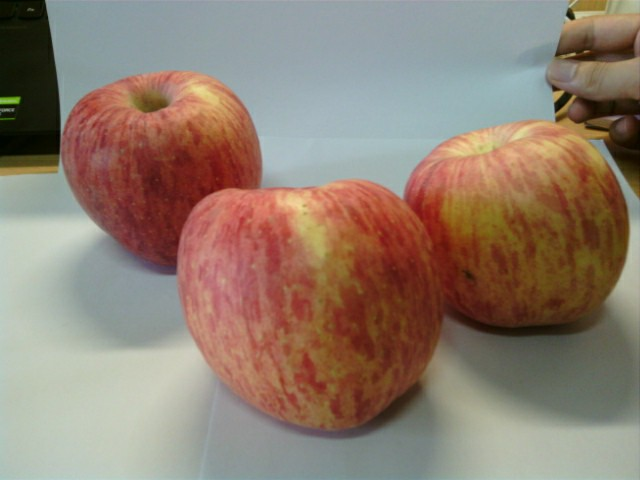normal_apple: (180, 185, 443, 442), (404, 117, 632, 336), (62, 71, 261, 271)
